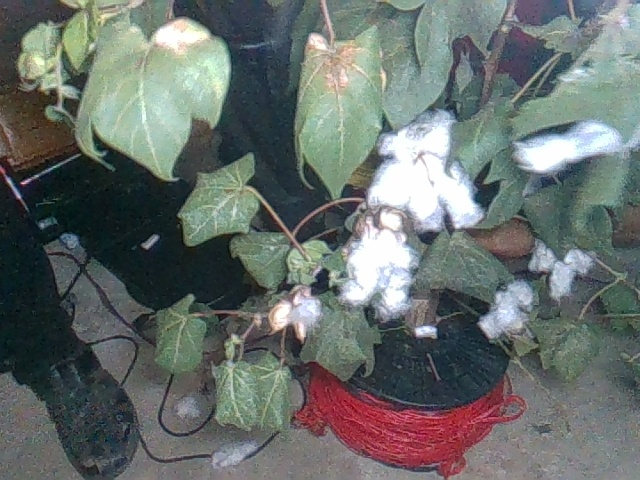cotton: (361, 107, 489, 231), (332, 208, 426, 332), (508, 121, 625, 175), (527, 237, 598, 304), (263, 282, 328, 348), (475, 278, 537, 344)
